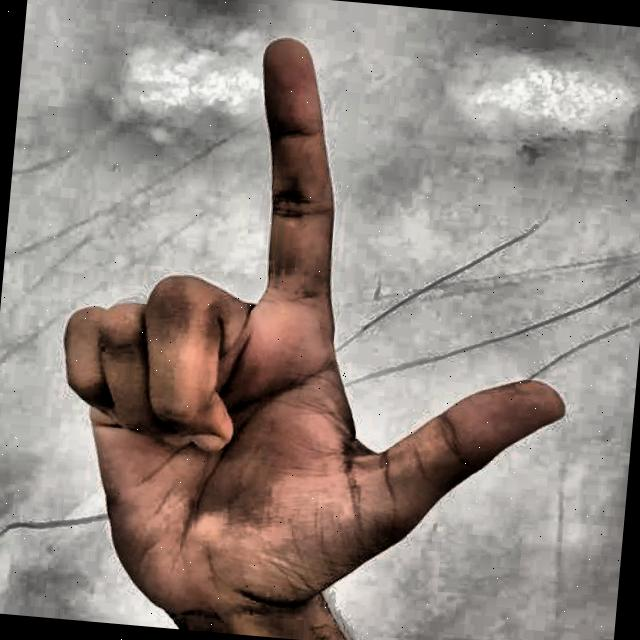La: (1, 2, 612, 640)
